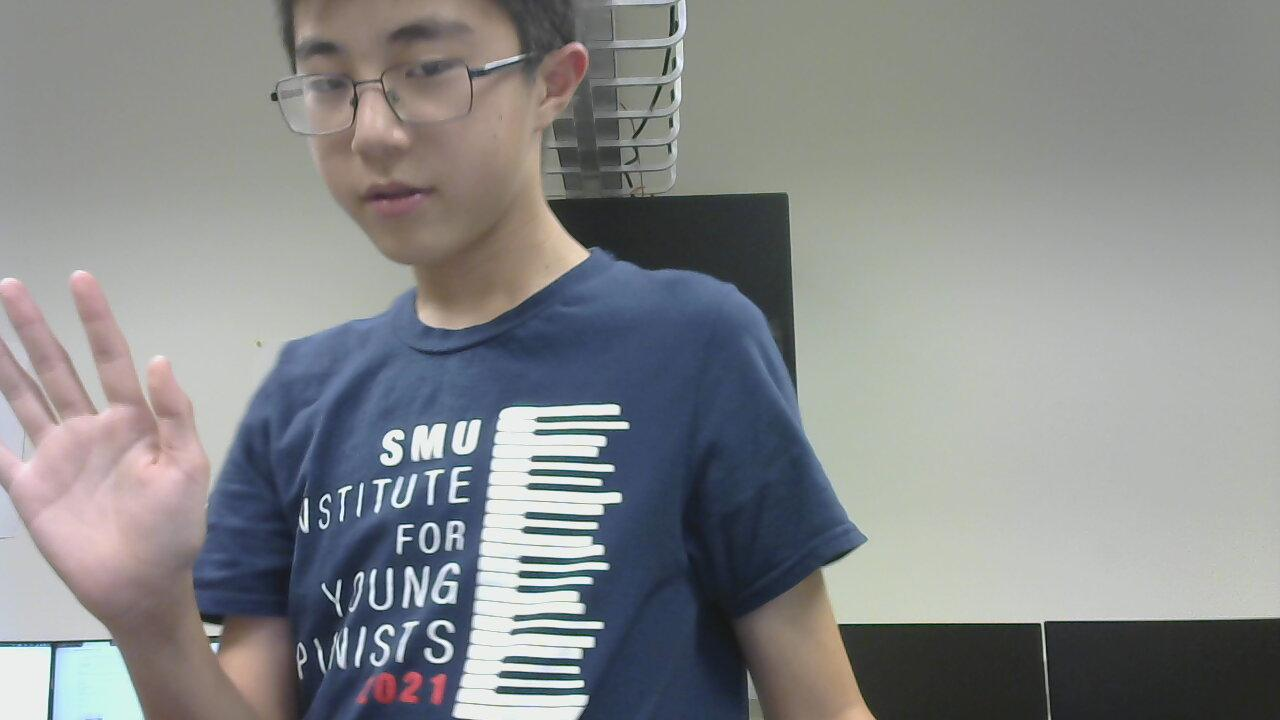hands: (0, 263, 216, 621)
